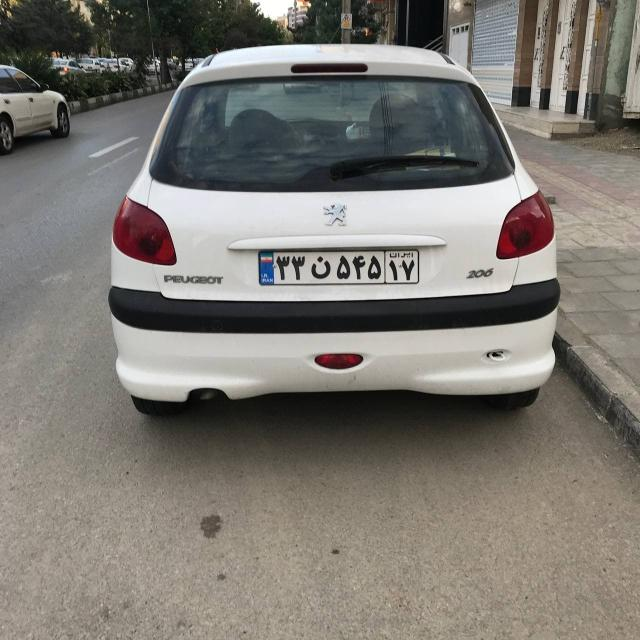Plates: (259, 249, 419, 285)
